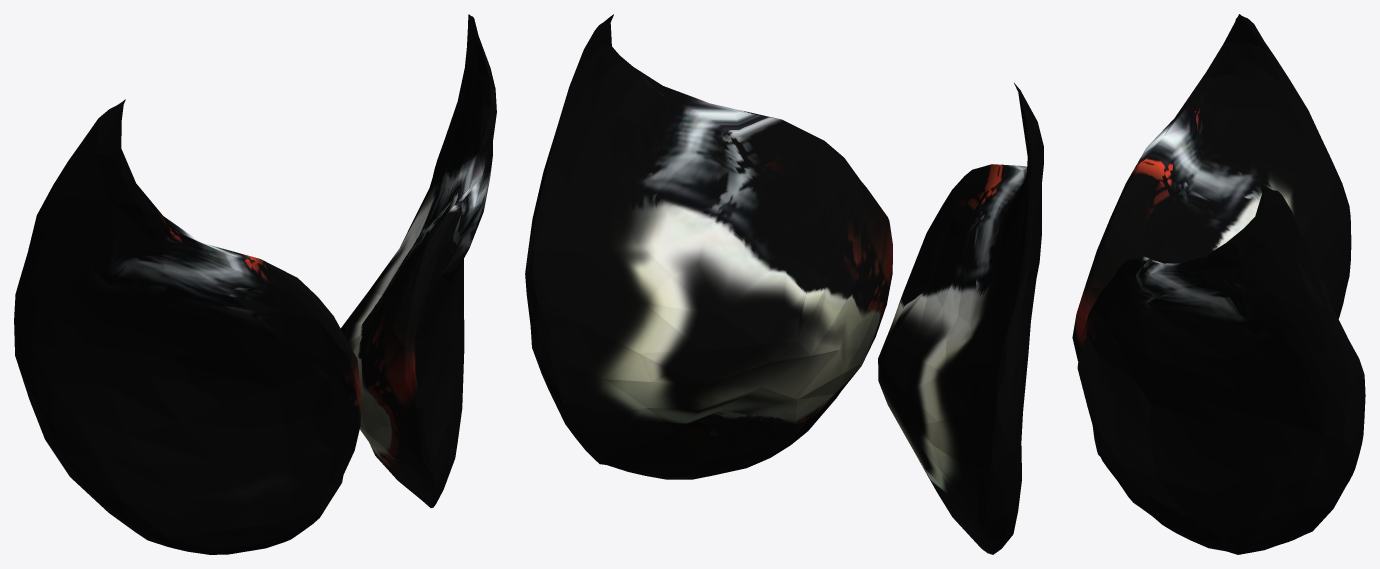
File: Eye2.OBJ
3 renders of one model, left to right at view 1: azimuth 30°, elevation 25°; view 2: azimuth 150°, elevation 25°; view 3: azimuth 270°, elevation 25°, orthographic. The views are drawn at different scales.
Visible parts, largest first — view 1: Group20470; view 2: Group20470; view 3: Group20470.
Part boxes in pixels (x1,y1,x2,y2): Group20470: [14, 14, 496, 554]; Group20470: [525, 14, 1043, 554]; Group20470: [1072, 14, 1365, 554].
Bounding box in the file's own units: 0.199 × 0.1915 × 0.1258.
